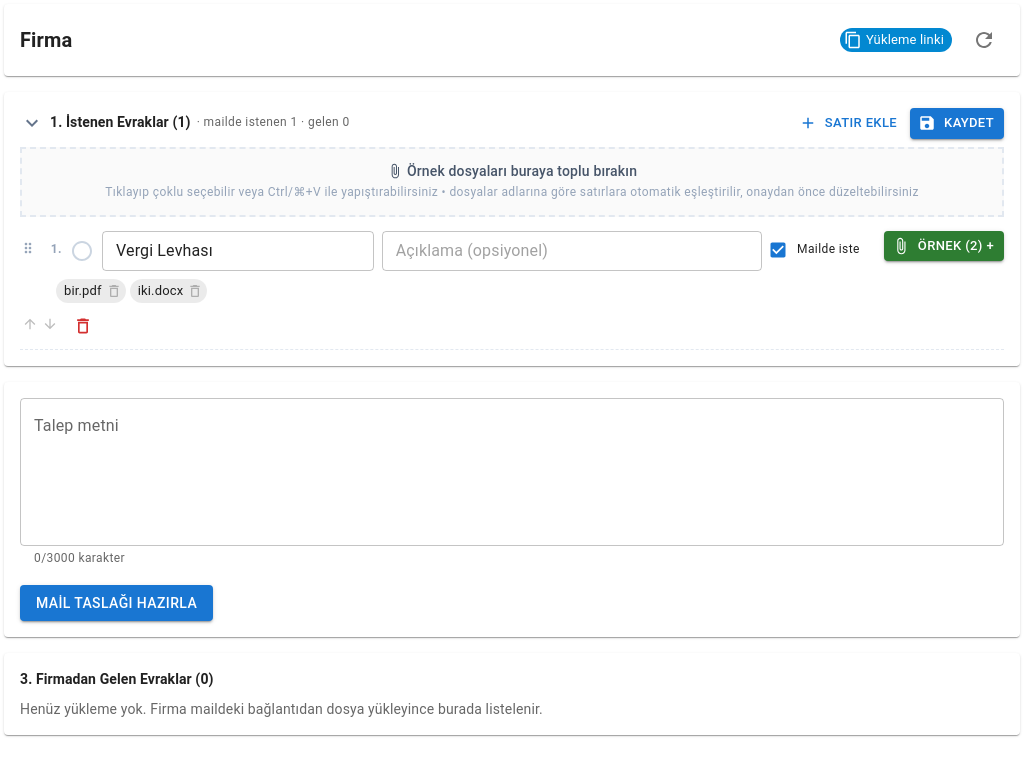
Scenario: çoklu örnekli satır mail ekleri arasına alınır
Click the button "Mail Taslağı Hazırla": (117, 603) left=20, top=585, right=213, bottom=621
(page scrolled)
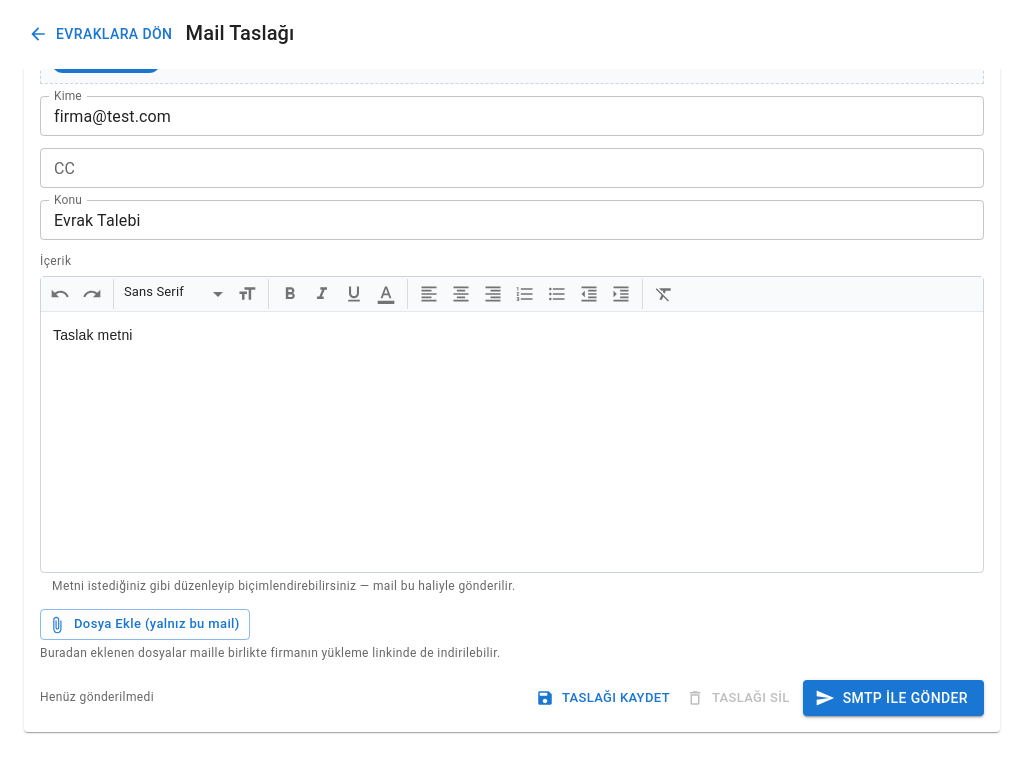
Click the button "SMTP ile Gönder": (893, 698) left=803, top=680, right=984, bottom=716
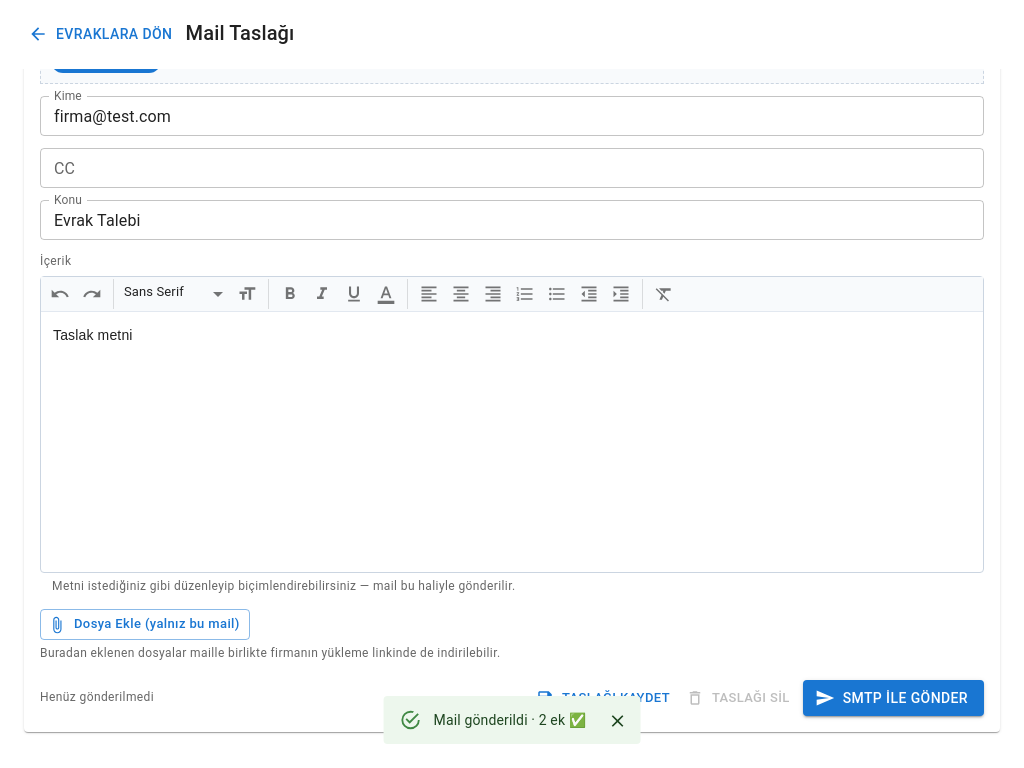
Now the text "Mail gönderildi · 2 ek ✅" is shown, box left=434, top=712, right=586, bottom=728
